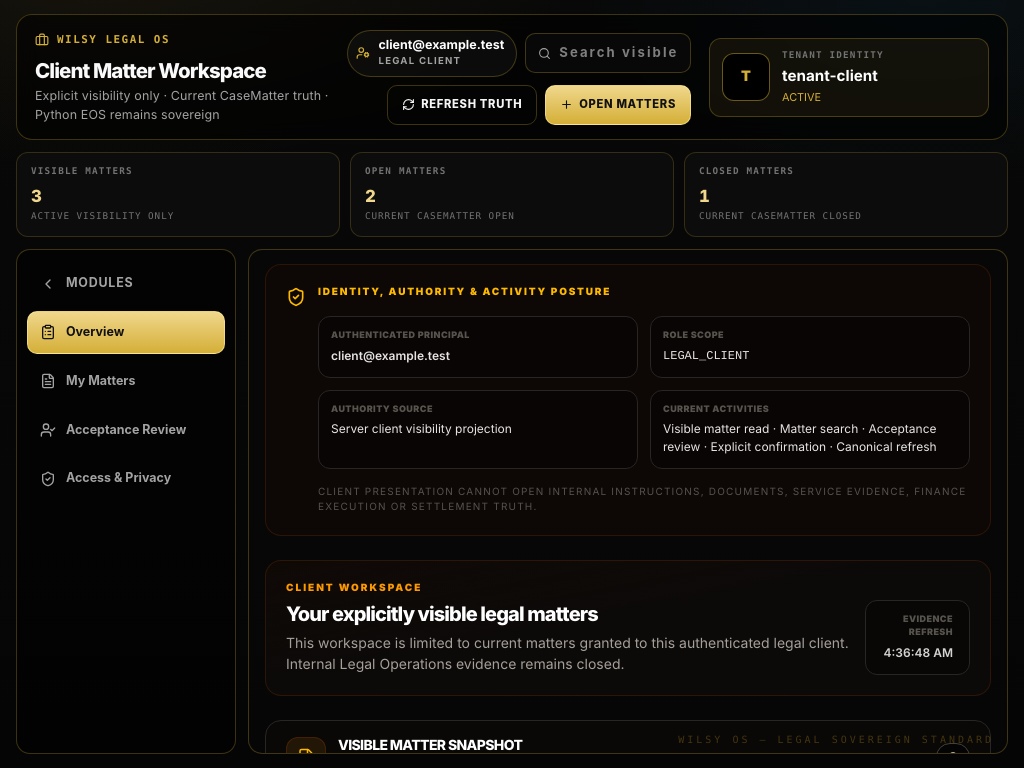
L8-7D8 governed Legal Operations cockpit › switches client menu lanes and keeps privacy scope explicit
Expected: the heading "Visible matter snapshot" is shown, [338, 739, 522, 754]
Click the button "My Matters": [126, 381] box [27, 360, 225, 402]
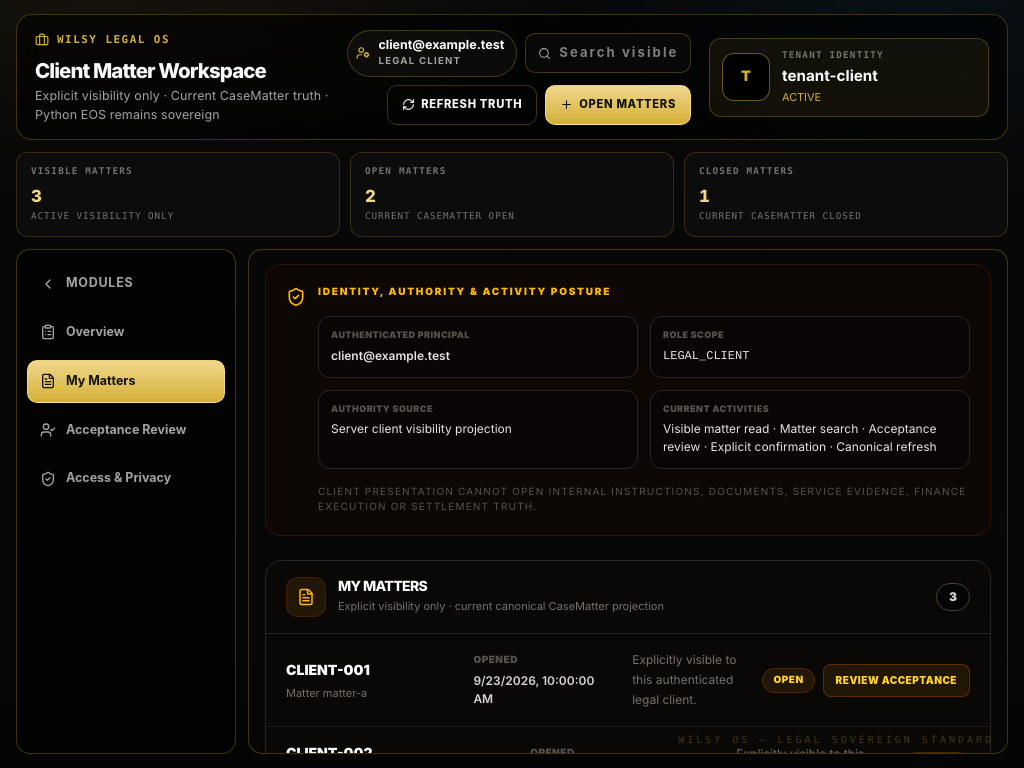
Result: the heading "My matters" is shown at [338, 578, 427, 595]
Result: the heading "Visible matter snapshot" is gone
Click the button "Access & Privacy": [126, 479] box [27, 457, 225, 500]
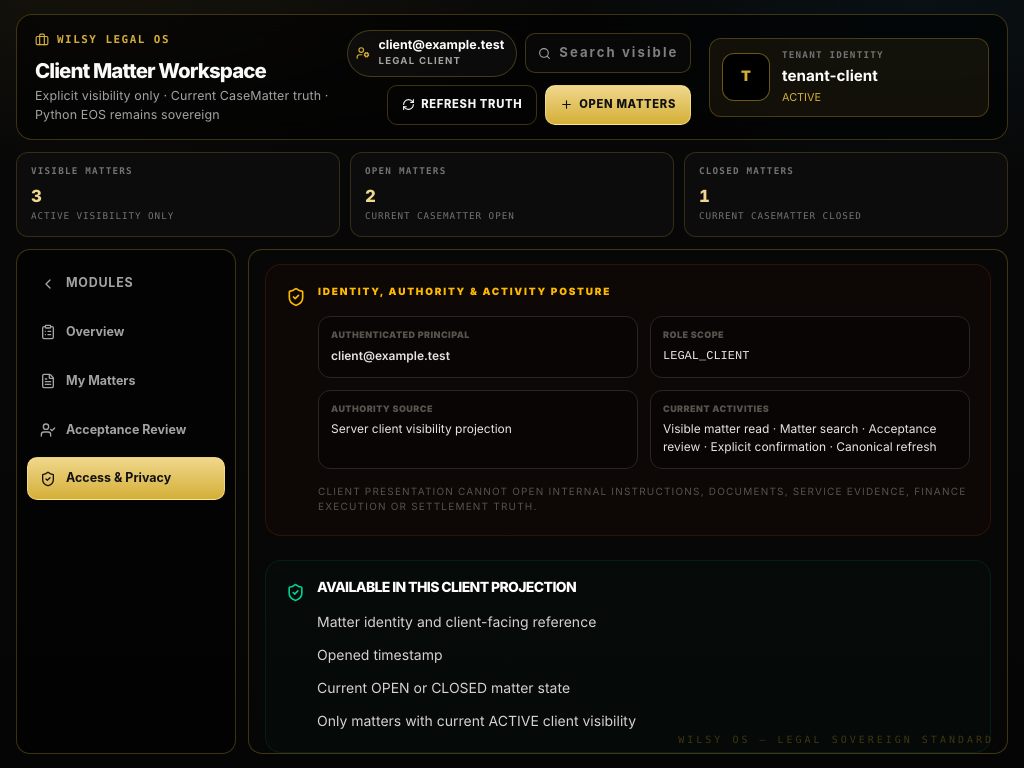
Expected: the button "My Matters" is shown, [27, 360, 225, 402]
Result: the heading "Available in this client projection" is shown at [317, 579, 576, 596]
Click the button "Overview": [126, 332] box [27, 311, 225, 354]
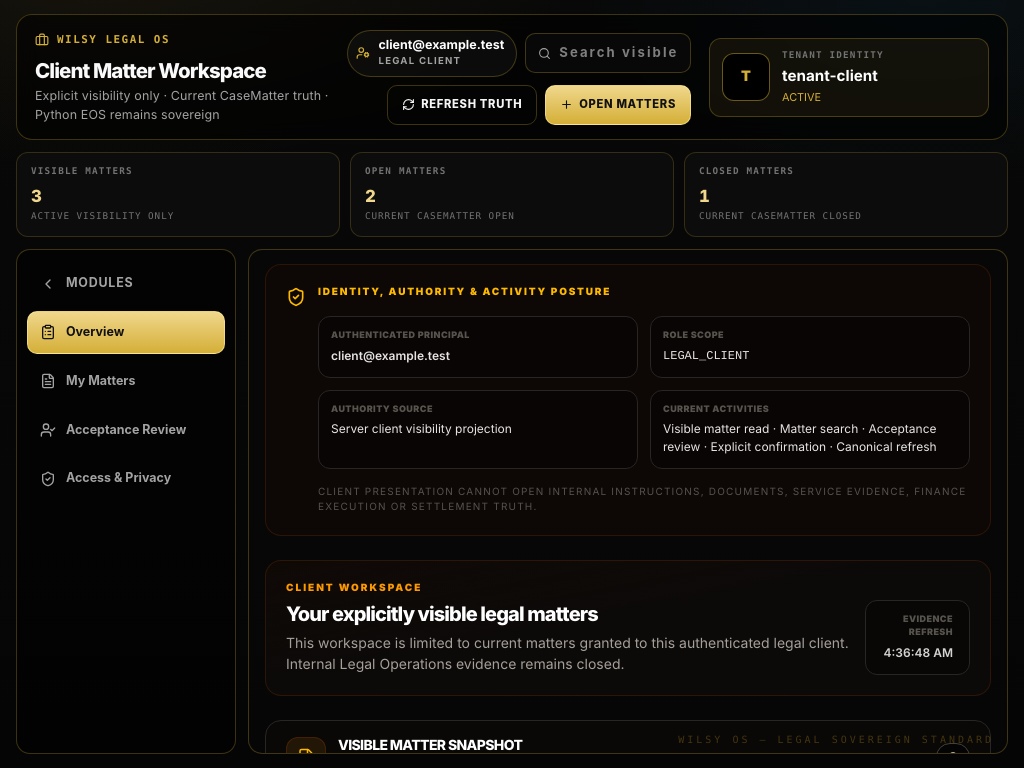
Result: the heading "Visible matter snapshot" is shown at [338, 739, 522, 754]
